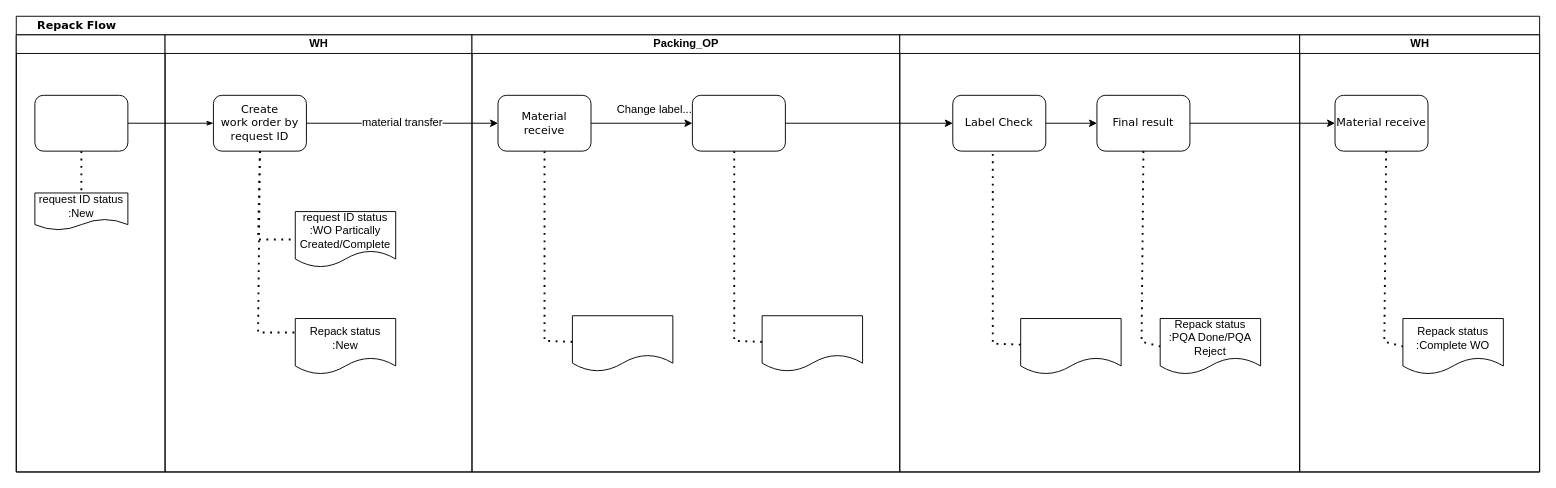
Image size: 1556x488. Some labels were removed from this diagram. Each missing label, with the box of its shape:
Create request and save: (34, 94, 128, 151)
Packing: (691, 94, 785, 151)
Planner: (15, 34, 165, 472)
QA: (899, 34, 1300, 472)
Repack status :Packing Done: (761, 315, 863, 372)
Repack status :PQA Confirm: (1020, 318, 1121, 374)
Repack status :Received: (571, 315, 673, 372)
